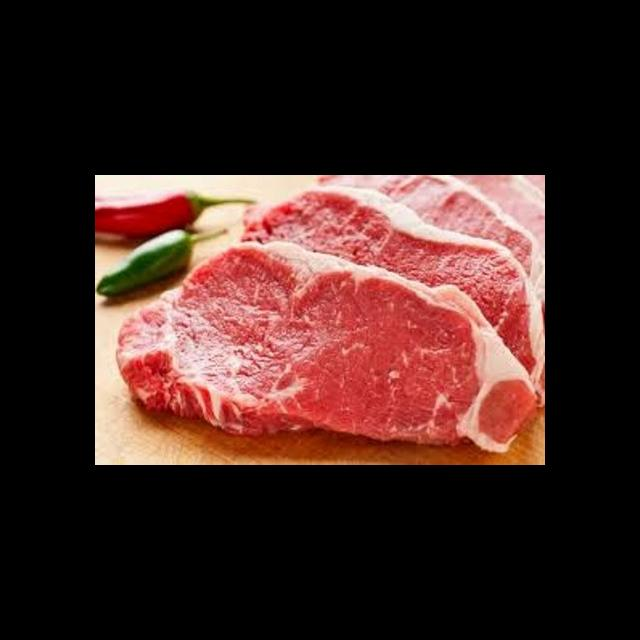beef: (110, 241, 544, 457), (226, 189, 545, 382)
